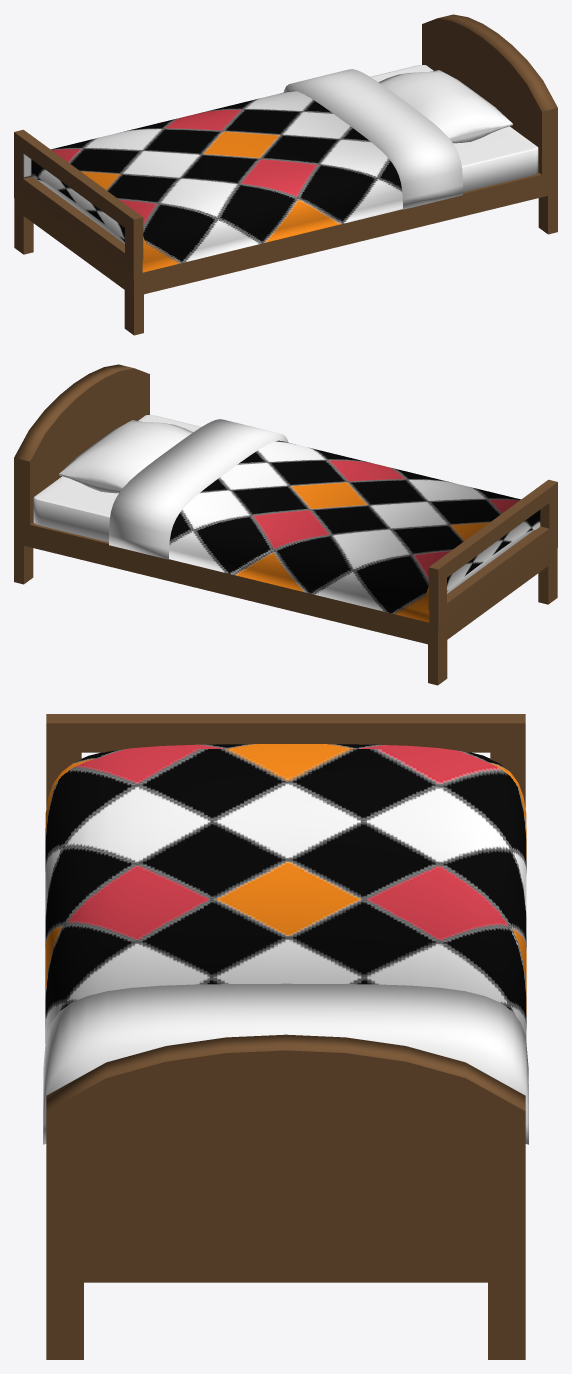
Rendered from bed_single_01.glb.
3 views of the same model, one above another, from view 1: azimuth 30°, elevation 25°; view 2: azimuth 150°, elevation 25°; view 3: azimuth 270°, elevation 25° (orthographic). The views are drawn at different scales.
Visible parts, largest first — view 1: Bed; view 2: Bed; view 3: Bed.
Part boxes in pixels (x1,y1,x2,y2): Bed: (14,14,557,335); Bed: (14,364,557,685); Bed: (43,714,528,1359).
Bounding box in the file's own units: 3.76 × 1.31 × 1.87.
Materials: 1 (1 with a texture image).
